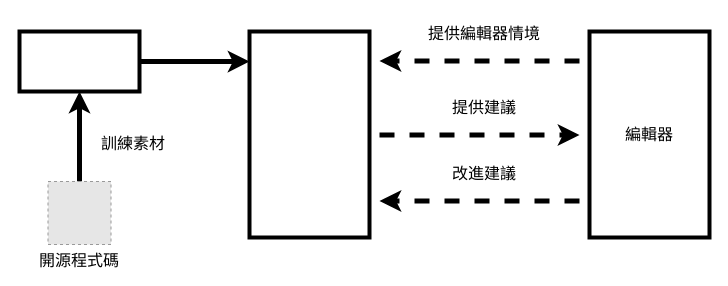
This 728x286 diagram has some shape labels left out. Grey dashed boxes stand in for pictures. The shapes that lost their labels are listed below. From the top down, each one's centre as x and y in pixels, then its label:
At [79,61]: "OpenAI Codex 模型".
At [309,134]: "GitHub Copilot 服務".
